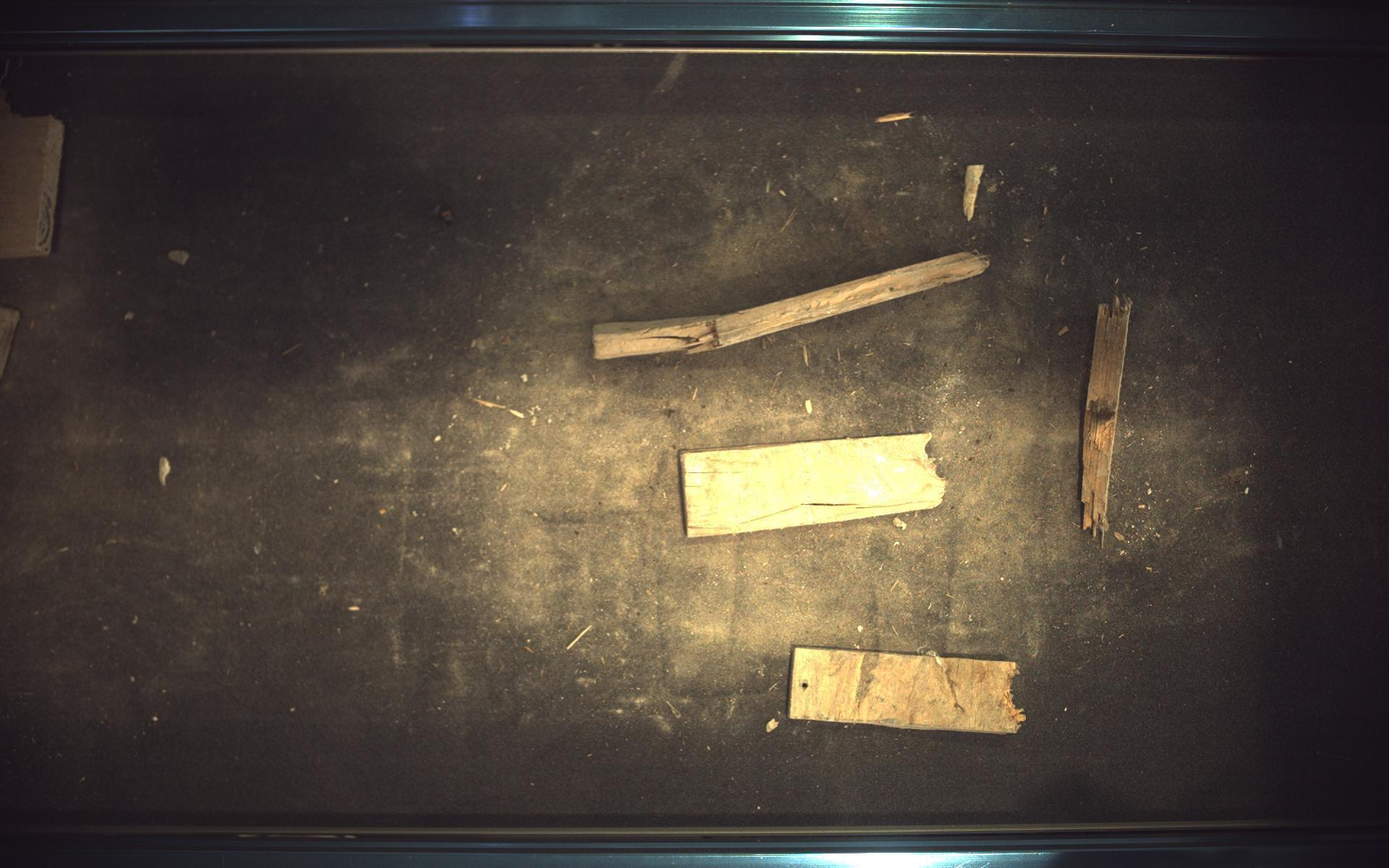wood: (594, 252, 992, 359), (681, 433, 948, 538), (790, 649, 1028, 735), (1085, 295, 1134, 536), (1, 115, 63, 258), (1, 306, 18, 377)
